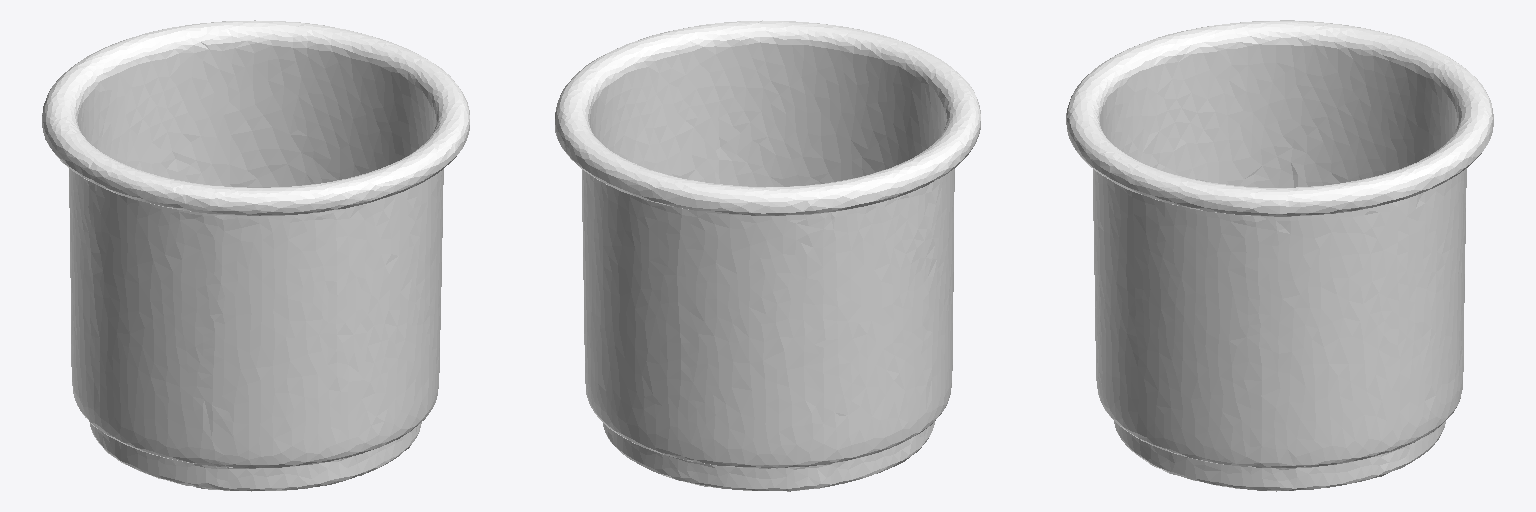
robot.urdf — 073-c_lego_duplo:
<robot name="073-c_lego_duplo">
	<link name="_name">
		<visual>
			<origin xyz="0.13173349121726696 0.22850899210760045 -0.12672119612308666" rpy="0 0 0" />
			<geometry>
				<mesh filename="073-c_lego_duplo/google_16k/textured.obj" scale="10 10 10" />
			</geometry>
			<material name="texture">
				<color rgba="1.0 1.0 1.0 1.0" />
			</material>
		</visual>
		<collision>
			<geometry>
				<mesh filename="073-c_lego_duplo/google_16k/textured_vhacd.obj" scale="10 10 10" />
			</geometry>
		<origin xyz="0.13173349121726696 0.22850899210760045 -0.12672119612308666" rpy="0 0 0" /></collision>
		<inertial>
			<mass value="1.0" />
			<inertia ixx="1.0" ixy="0.0" ixz="0.0" iyy="1.0" iyz="0.0" izz="1.0" />
		</inertial>
	</link>
</robot>

--- Facts derived from the render (not from the file) ---
The picture shows the robot from 3 angles, left to right: view 1: azimuth 30°, elevation 25°; view 2: azimuth 150°, elevation 25°; view 3: azimuth 270°, elevation 25°; orthographic projection.
Model 073-c_lego_duplo with 1 links and 0 joints (none), rooted at _name, posed every joint at zero.
Visible links, largest first — view 1: _name; view 2: _name; view 3: _name.
Boxes of the visible links, x1=… form: _name: x1=42, y1=20, x2=469, y2=491; _name: x1=555, y1=20, x2=980, y2=491; _name: x1=1066, y1=20, x2=1493, y2=491.
Size in the robot's own frame: 0.915 by 0.9162 by 0.7506 metres.
1 mesh visuals loaded from 1 distinct referenced files (1 OBJ).